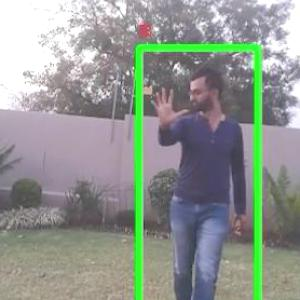follow_hand: (147, 81, 190, 131)
